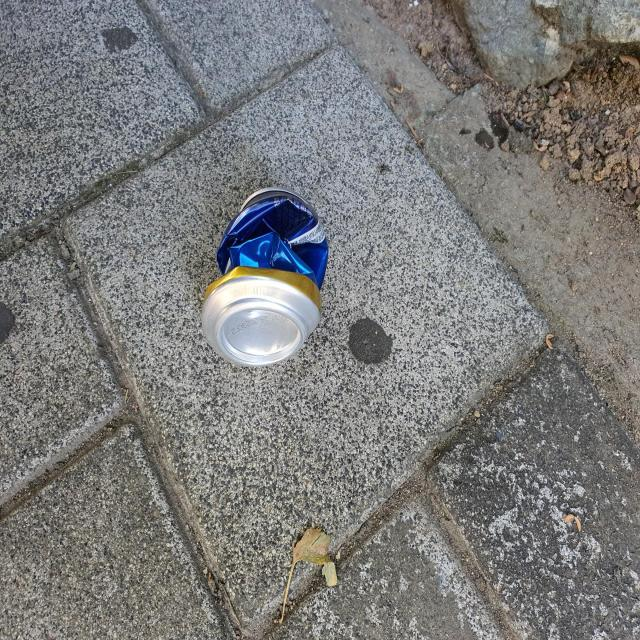can: (202, 187, 328, 366)
